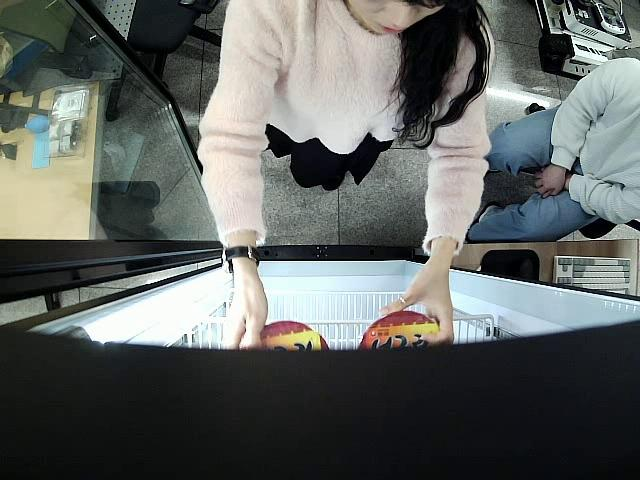00_hand: (380, 273, 455, 347), (223, 279, 268, 349)
05_nuguri_L: (360, 310, 447, 349), (255, 320, 330, 355)
